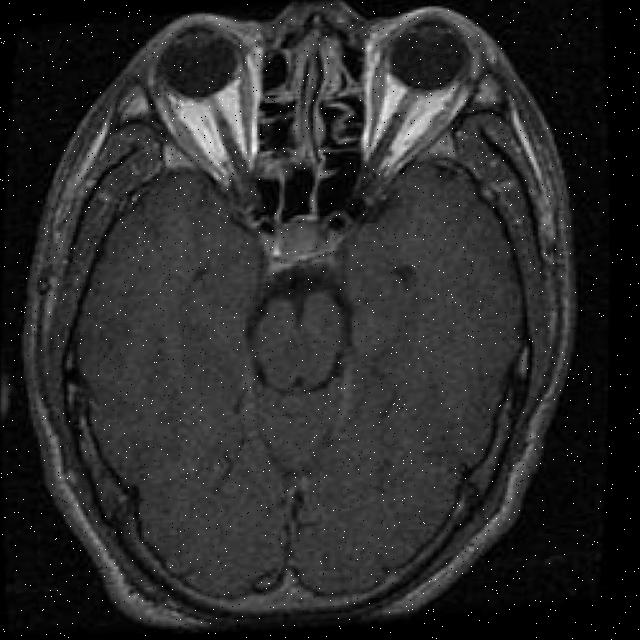Pituitary: (269, 213, 329, 263)
